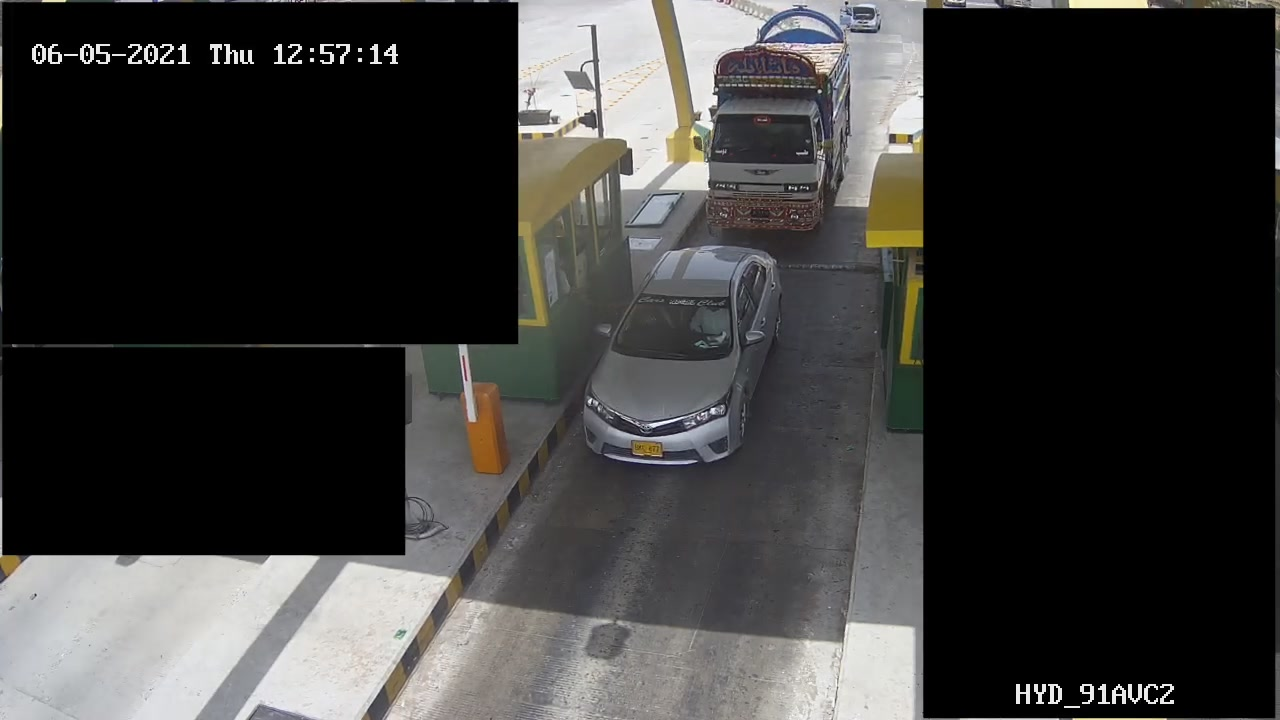F1: (579, 232, 786, 470)
F5: (692, 7, 859, 240)
